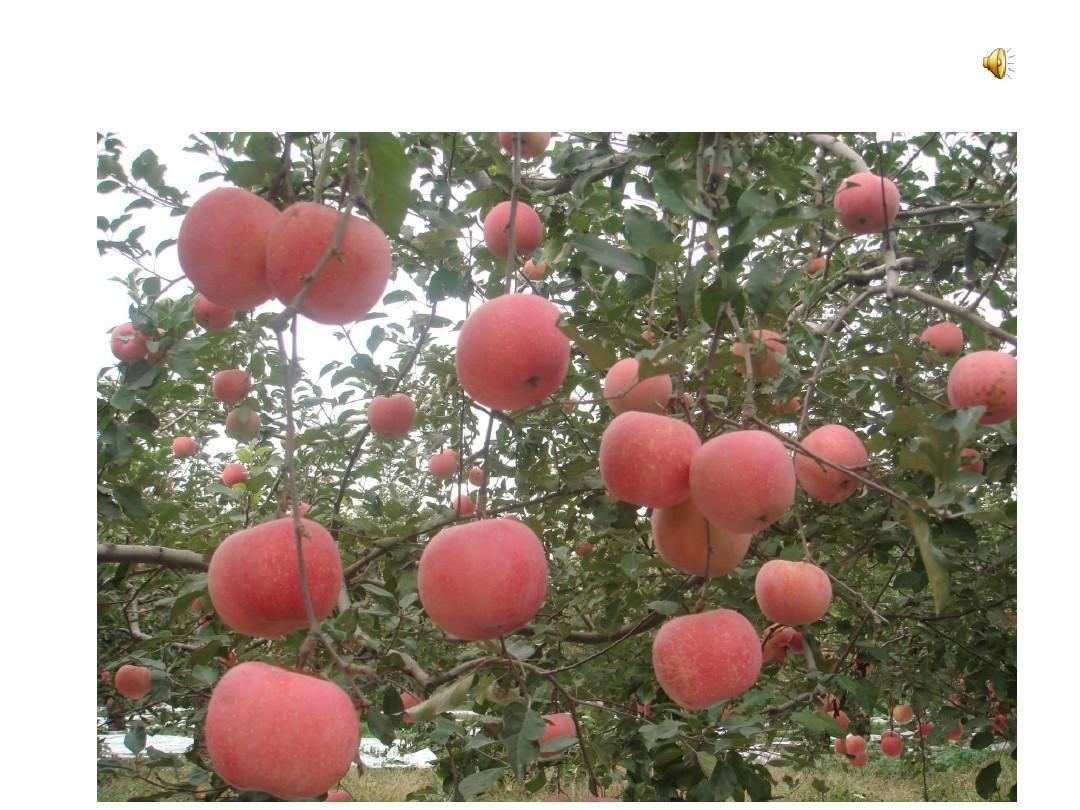apple: (201, 662, 358, 797), (206, 511, 342, 643), (415, 514, 550, 643), (262, 199, 393, 326), (180, 186, 291, 311), (692, 429, 796, 530), (599, 408, 703, 509), (653, 608, 757, 709), (652, 500, 750, 577), (795, 424, 867, 501), (756, 558, 832, 627), (946, 350, 1015, 424), (833, 169, 900, 233), (481, 199, 542, 260), (728, 329, 785, 380), (365, 392, 415, 438), (919, 322, 964, 356), (108, 326, 146, 363)
